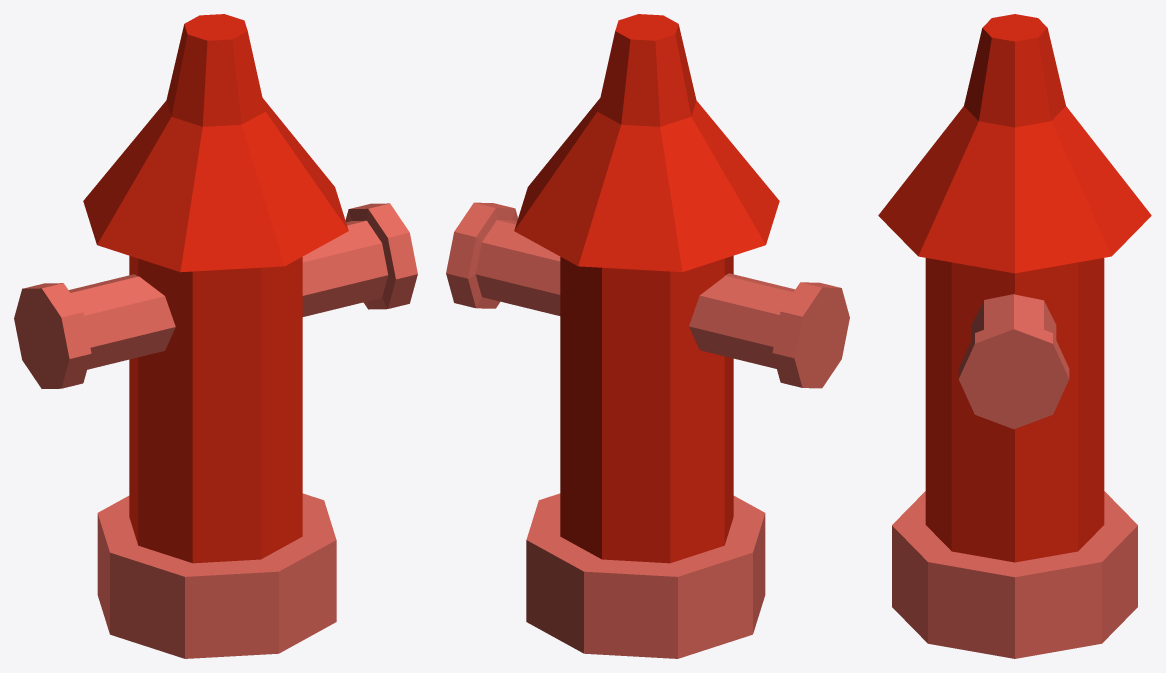
File: sohwajun.fbx
3 renders of one model, left to right at view 1: azimuth 30°, elevation 25°; view 2: azimuth 150°, elevation 25°; view 3: azimuth 270°, elevation 25°, orthographic.
Visible parts, largest first — view 1: 실린더, 실린더.003, 실린더.002, 실린더.001; view 2: 실린더, 실린더.003, 실린더.002, 실린더.001; view 3: 실린더, 실린더.003, 실린더.001.
Part boxes in pixels (x1,y1,x2,y2): 실린더: (83,14,348,563); 실린더.003: (97,493,336,658); 실린더.002: (14,274,175,388); 실린더.001: (302,203,417,316); 실린더: (514,14,779,563); 실린더.003: (526,493,765,658); 실린더.002: (689,273,849,388); 실린더.001: (446,202,560,315); 실린더: (878,14,1151,562); 실린더.003: (892,491,1137,658); 실린더.001: (958,294,1069,429).
Size of the model in its own units: 307 by 490 by 210.
